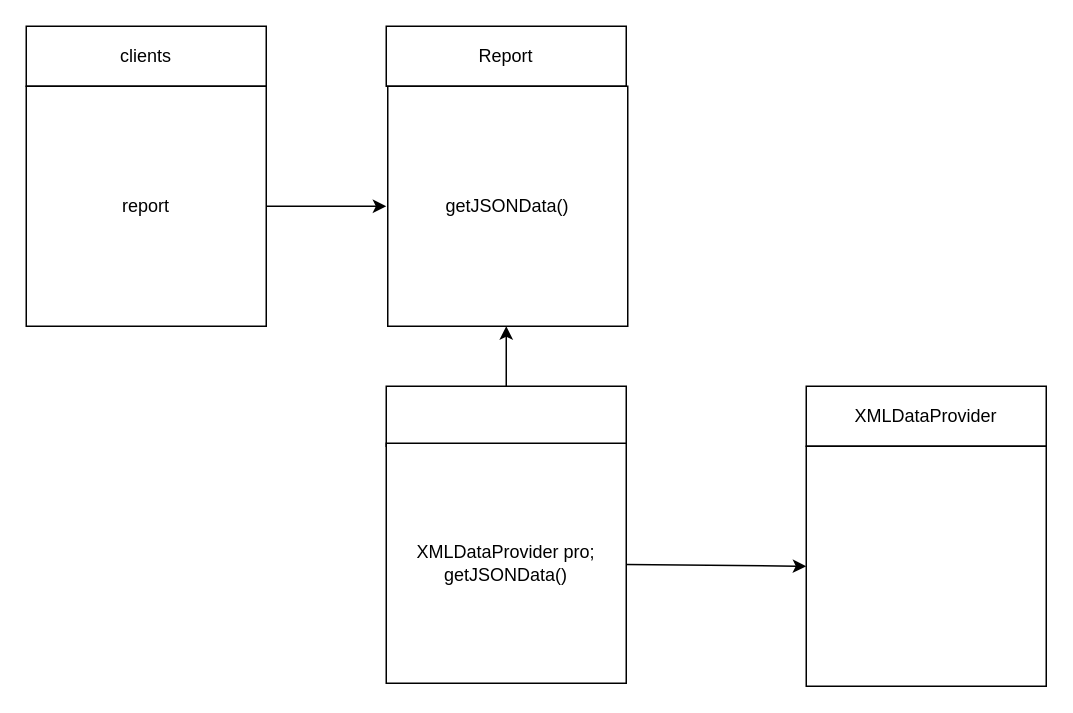
The diagram is 1073 pixels wide and 713 high, and some of its shapes have lost their labels. The centre of each missing label's shape, as x and y in pixels:
"getXMLData()" belongs at (925,565).
"XMLDataProviderAdpater" belongs at (505,415).
